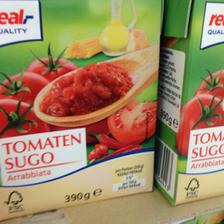Tomatensauce: (0, 0, 162, 224)
